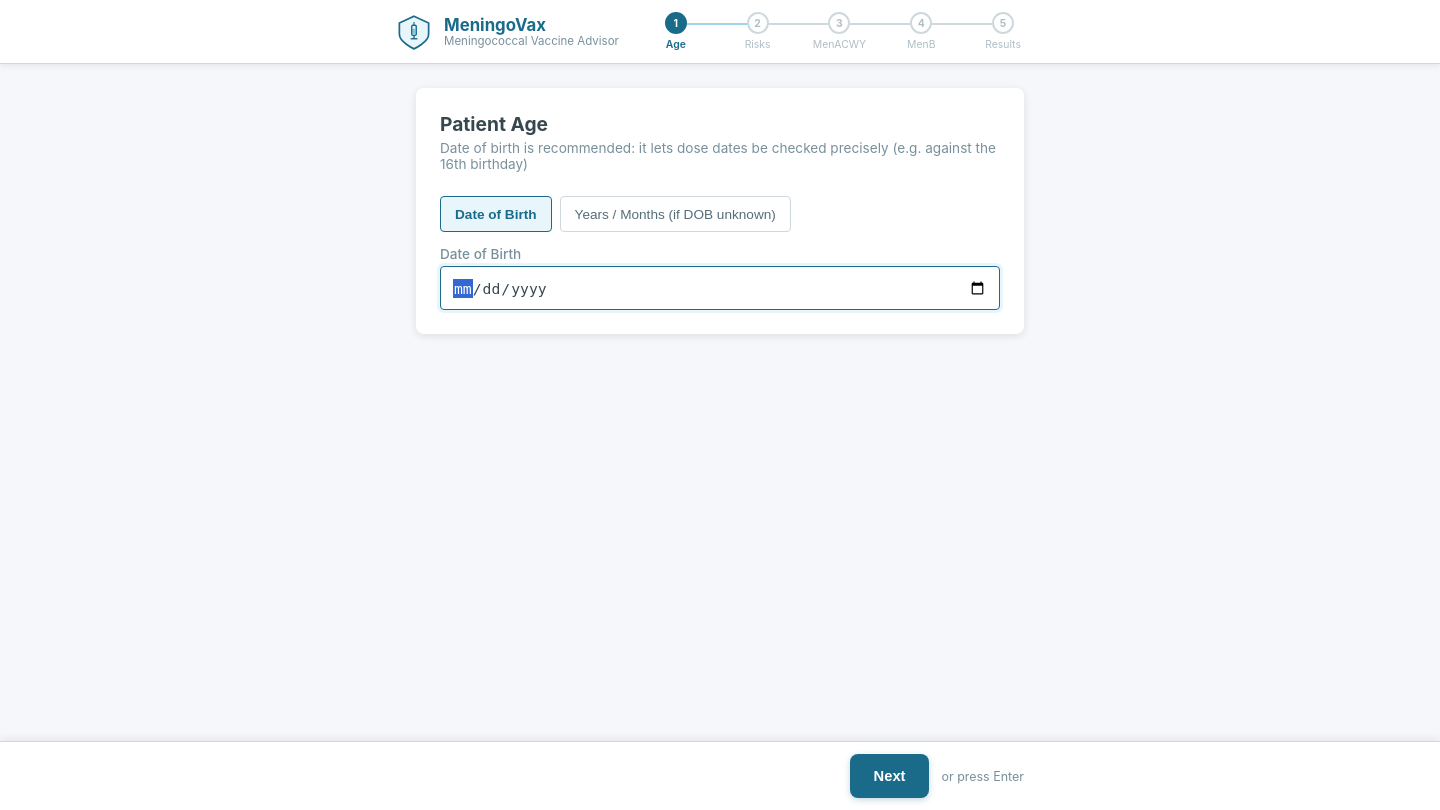
Test: impossible P0-1 (UI): a mistyped year is refused, not answered › the Years box refuses 999, which its own max="120" never enforced
The width and height of the screenshot is (1440, 810).
Click the button "Years / Months (if DOB unknown)" at (675,214), box [560,196,791,232]
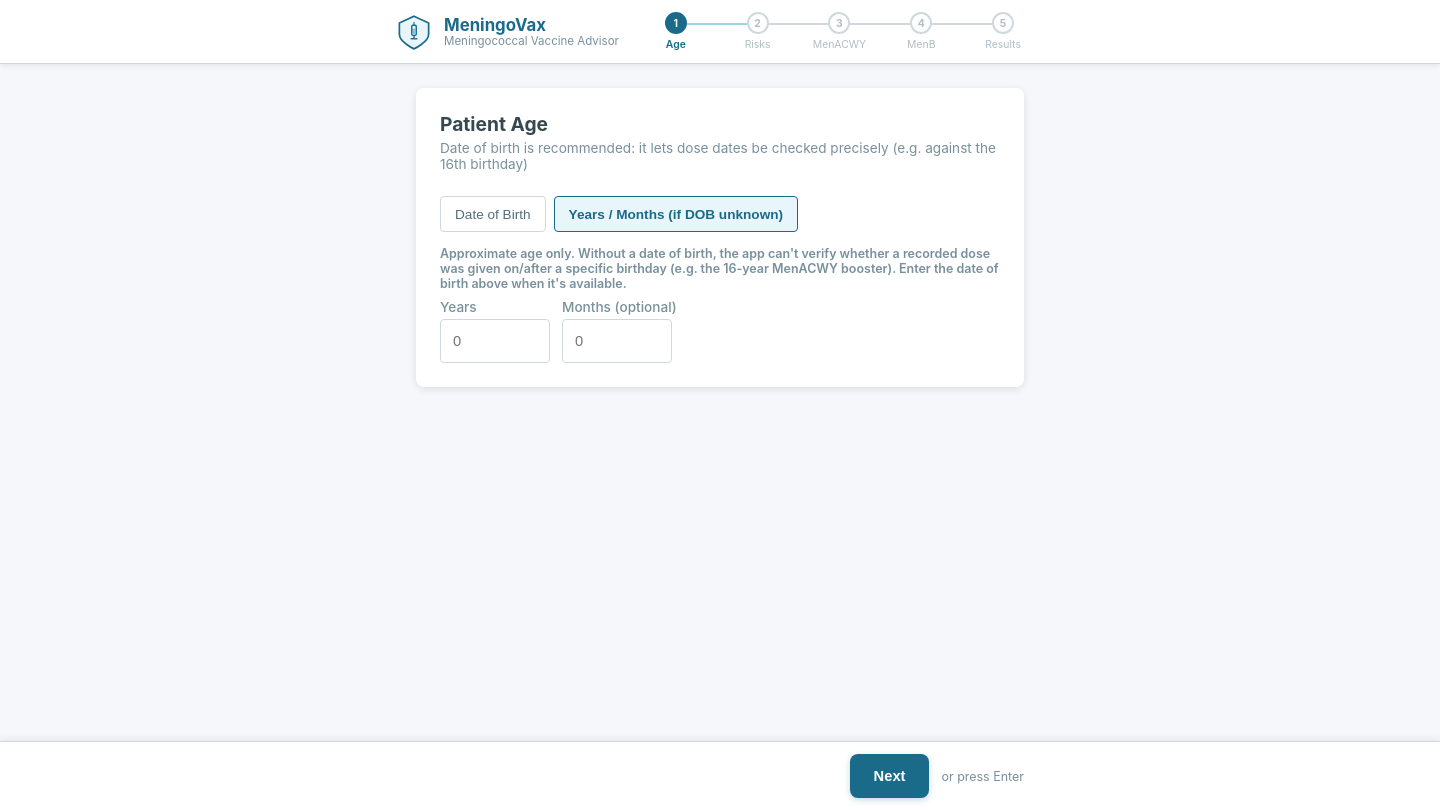
Type "999" into the number field labelled "Years" at (495,341), box [440,319,550,363]
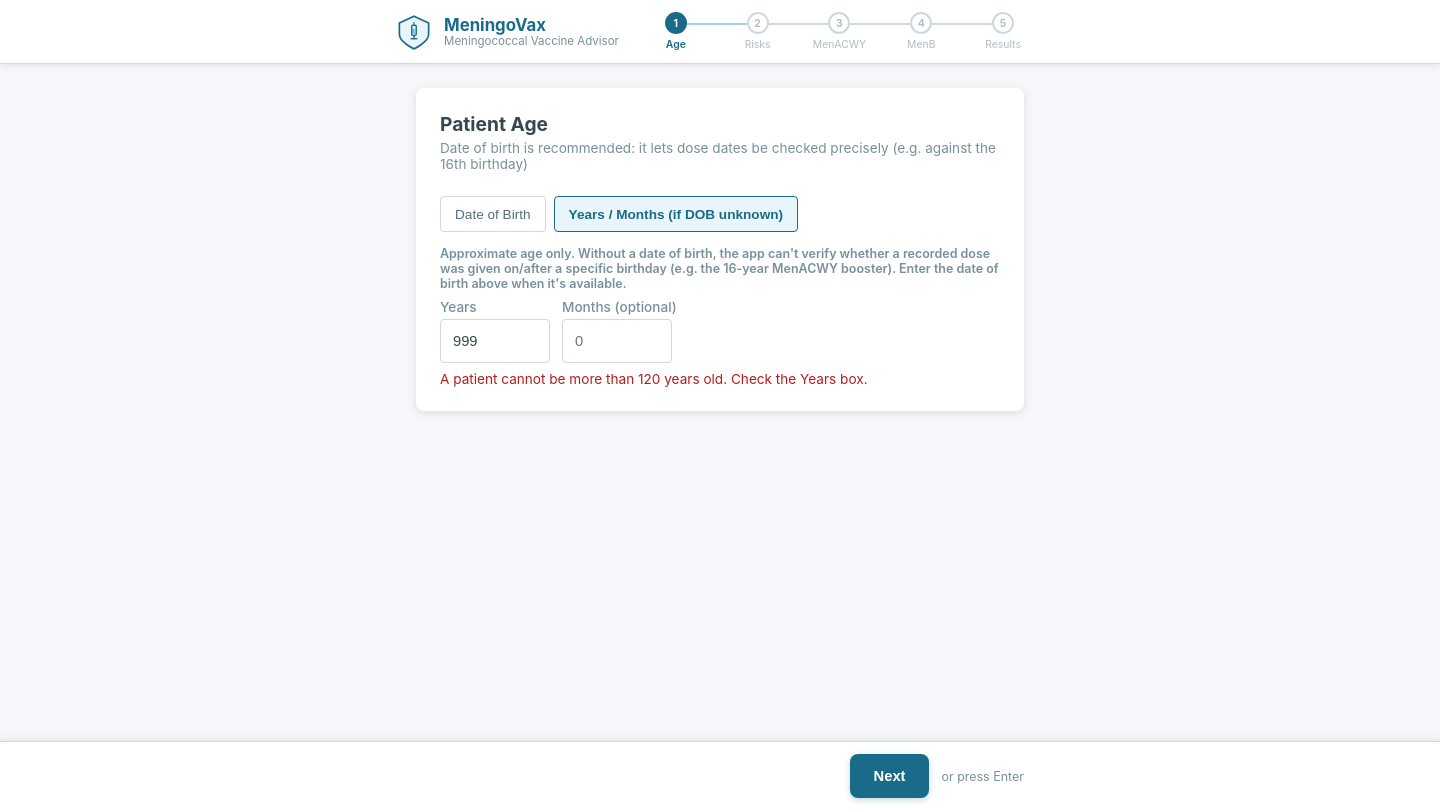
Check: the text "cannot be more than 120 years old" is shown, box [440,371,868,387]
